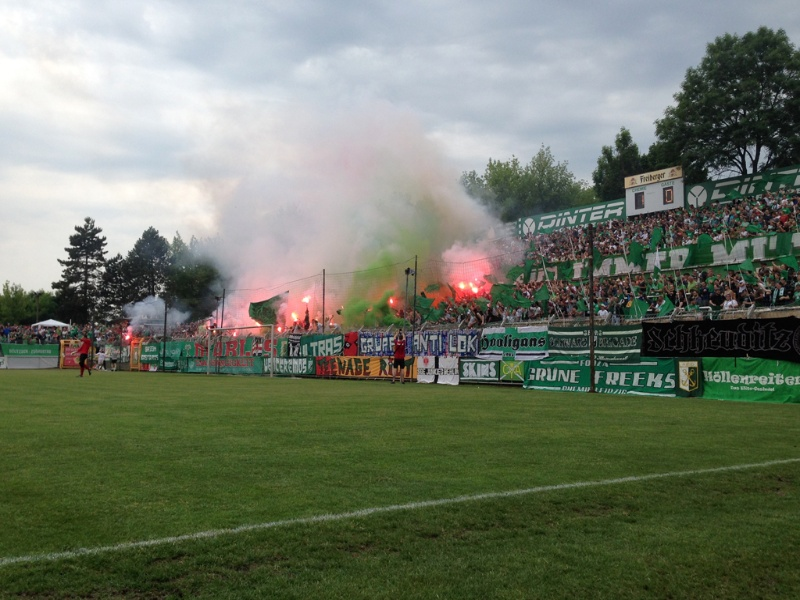smoke: (210, 142, 500, 281)
